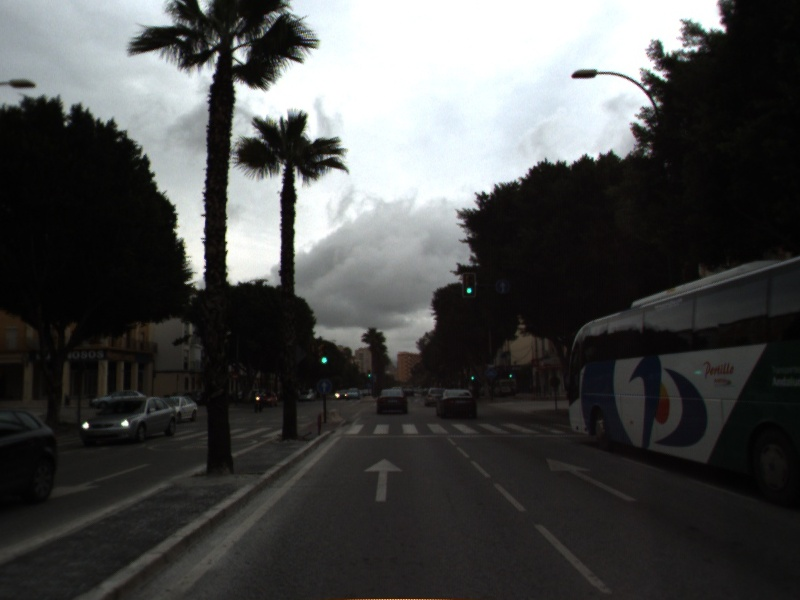STRAIGHT: (544, 456, 640, 504), (361, 456, 405, 504)
